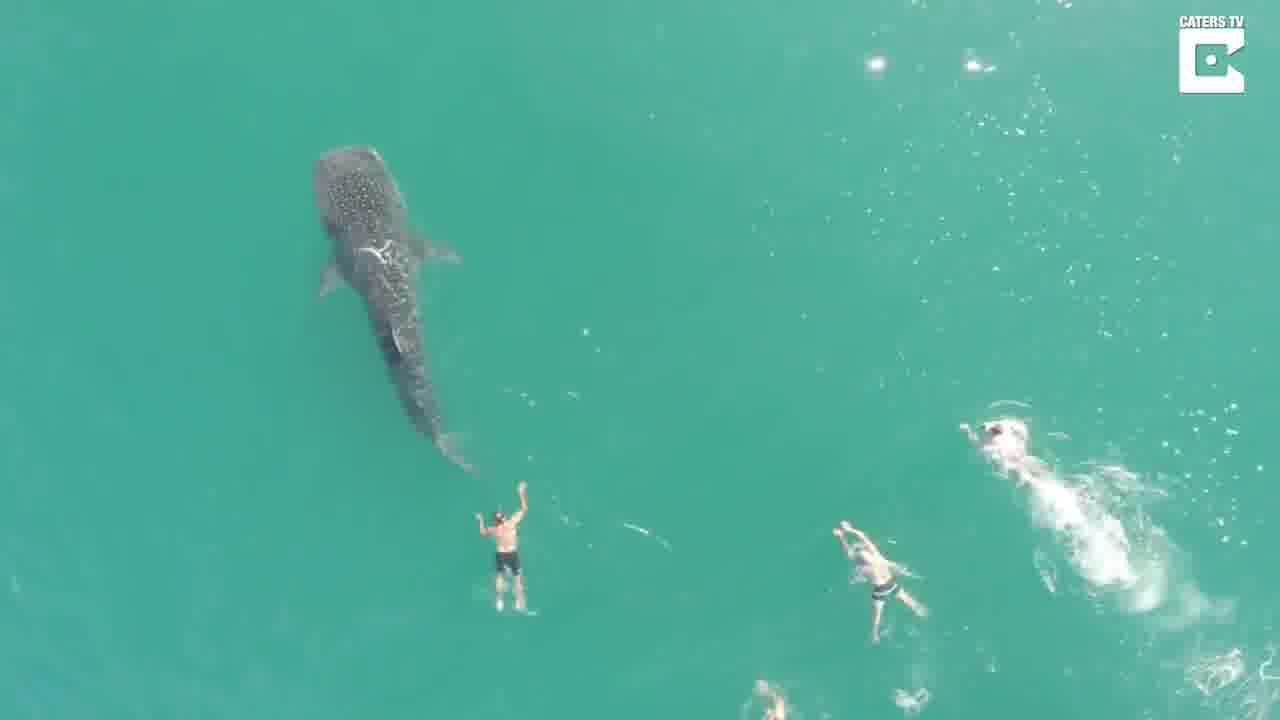swimmer: (466, 484, 549, 633), (841, 510, 920, 638)
